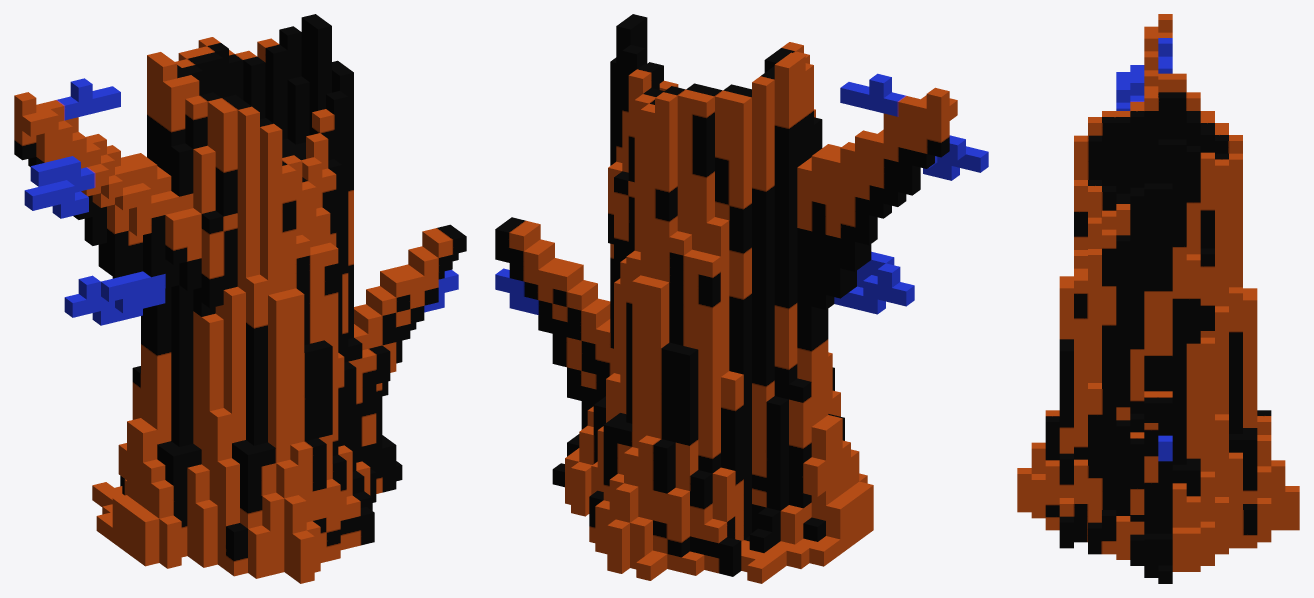
File: TreeRed.obj
The picture shows the model from 3 angles, left to right: view 1: azimuth 30°, elevation 25°; view 2: azimuth 150°, elevation 25°; view 3: azimuth 270°, elevation 25°; orthographic projection. The views are drawn at different scales.
Visible parts, largest first — view 1: Tree; view 2: Tree; view 3: Tree.
Boxes of the visible parts, x1,y1,x2,y2 form: Tree: (14, 14, 466, 583); Tree: (495, 14, 988, 583); Tree: (1017, 14, 1299, 583).
Size of the model in its own units: 3.2 by 3.2 by 2.
1 material, 1 textured.
